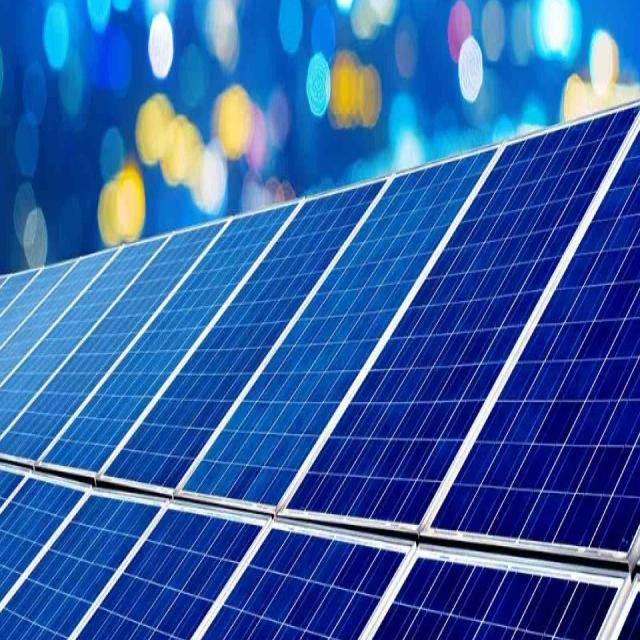clean-solar-panel: (1, 103, 640, 640)
